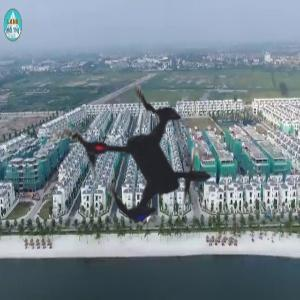drone: (11, 16, 296, 300)
